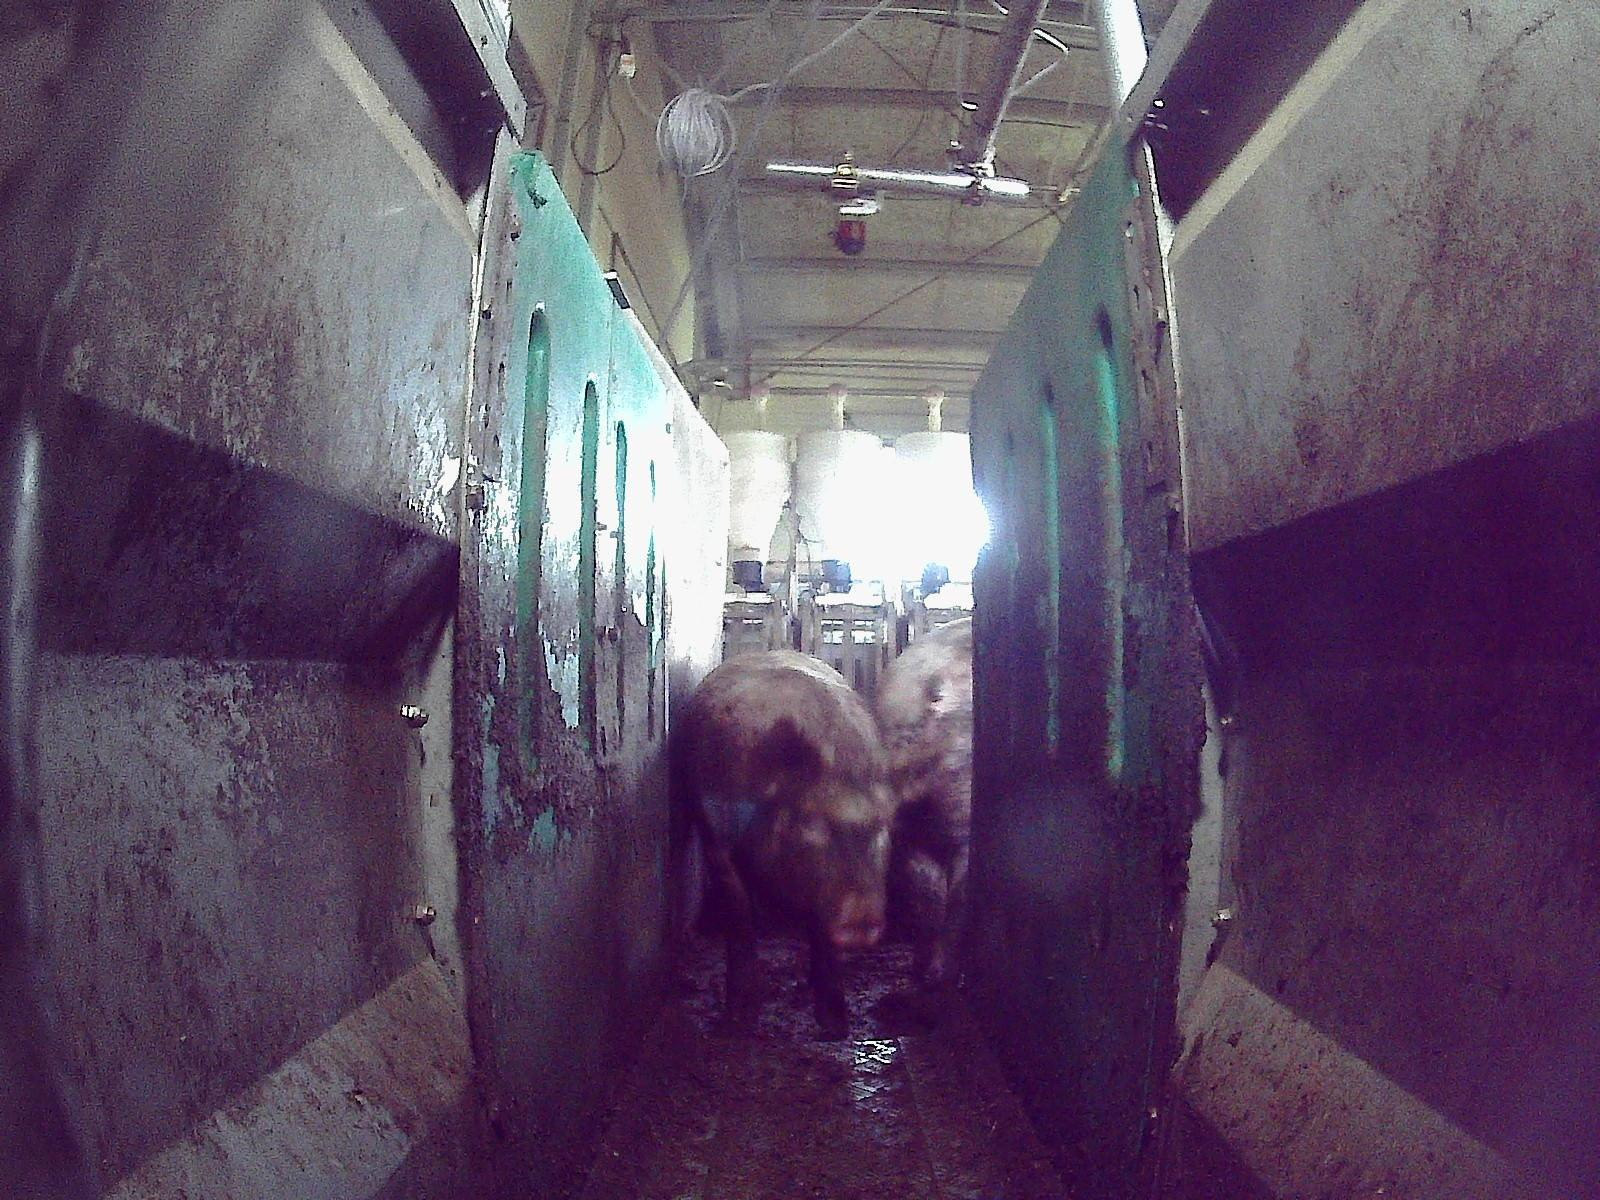Face: (768, 759, 896, 956)
